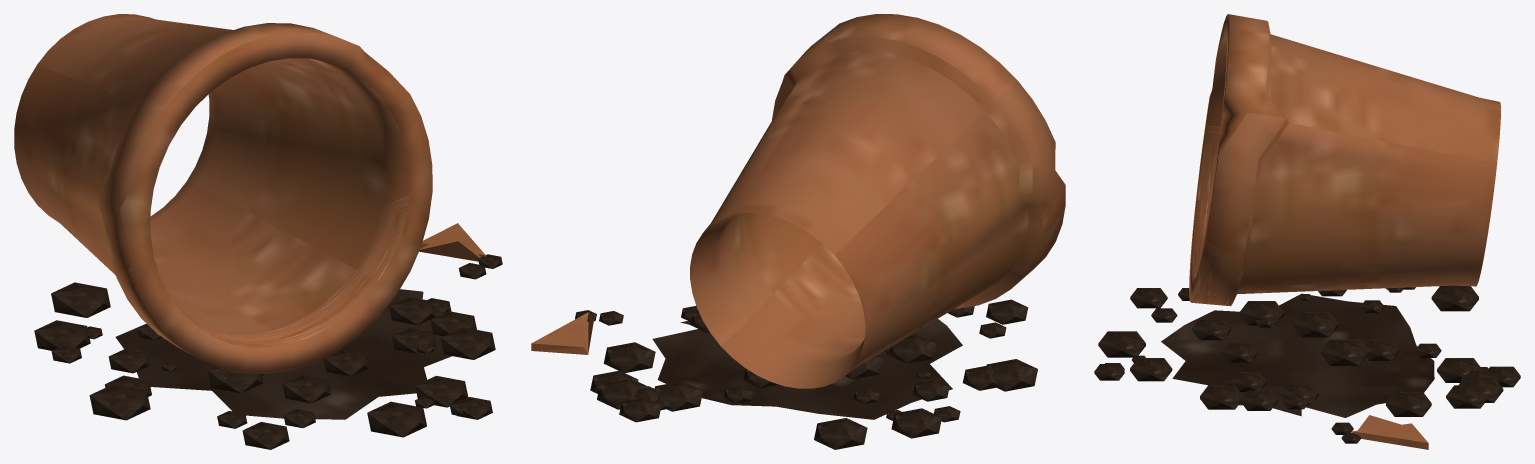
The model's file is by_pot_tipped.glb.
The picture shows the model from 3 angles, left to right: view 1: azimuth 30°, elevation 25°; view 2: azimuth 150°, elevation 25°; view 3: azimuth 270°, elevation 25°; orthographic projection. The views are drawn at different scales.
Visible parts, largest first — view 1: by_pot_tipped; view 2: by_pot_tipped; view 3: by_pot_tipped.
Part boxes in pixels (bbox=[...]): by_pot_tipped: bbox=[14, 14, 502, 449]; by_pot_tipped: bbox=[531, 14, 1065, 449]; by_pot_tipped: bbox=[1094, 14, 1520, 449].
Bounding box in the file's own units: 0.522 × 0.3923 × 0.5036.
1 material, 1 textured.
